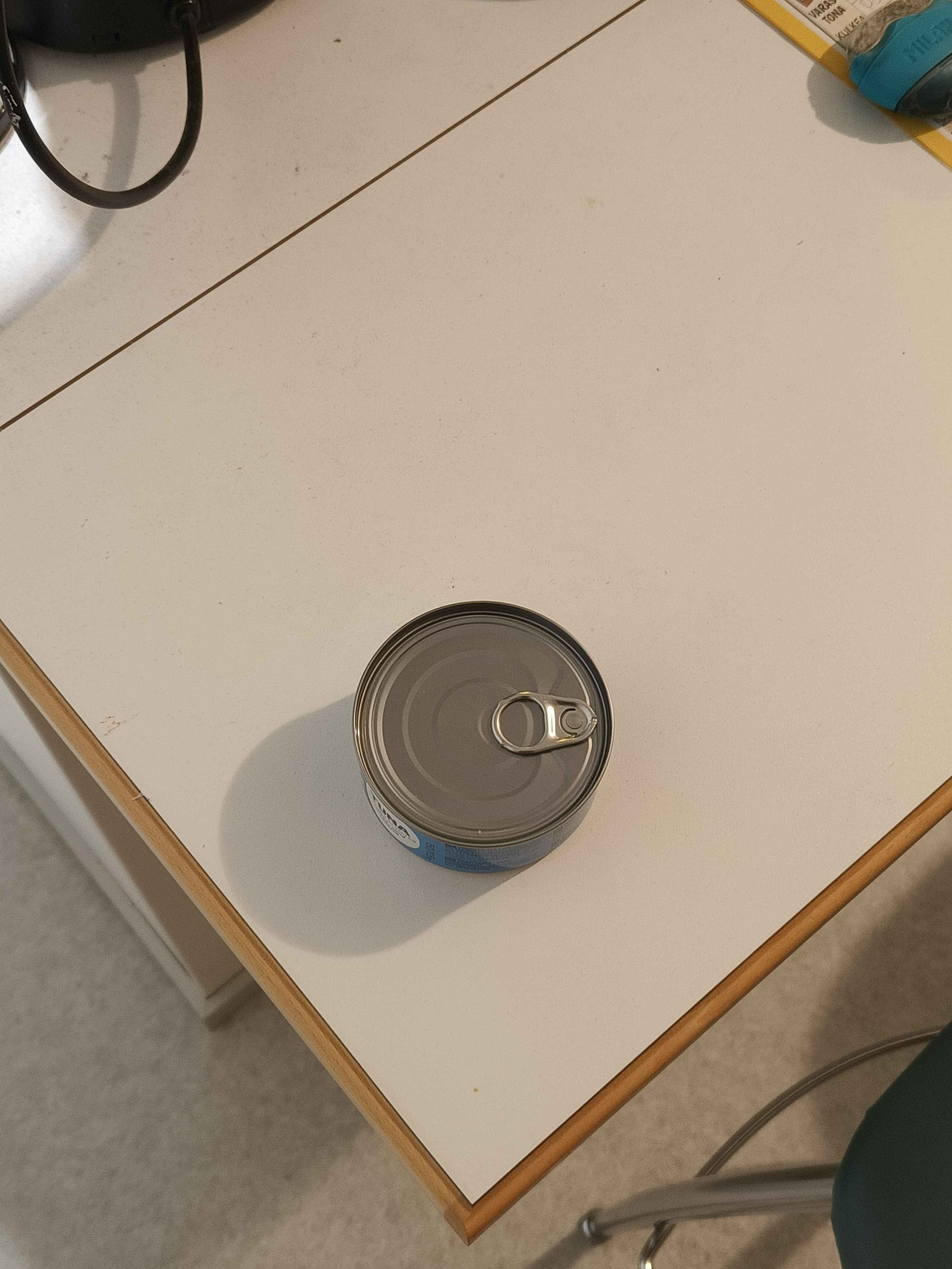Konservburk: (353, 600, 615, 874)
